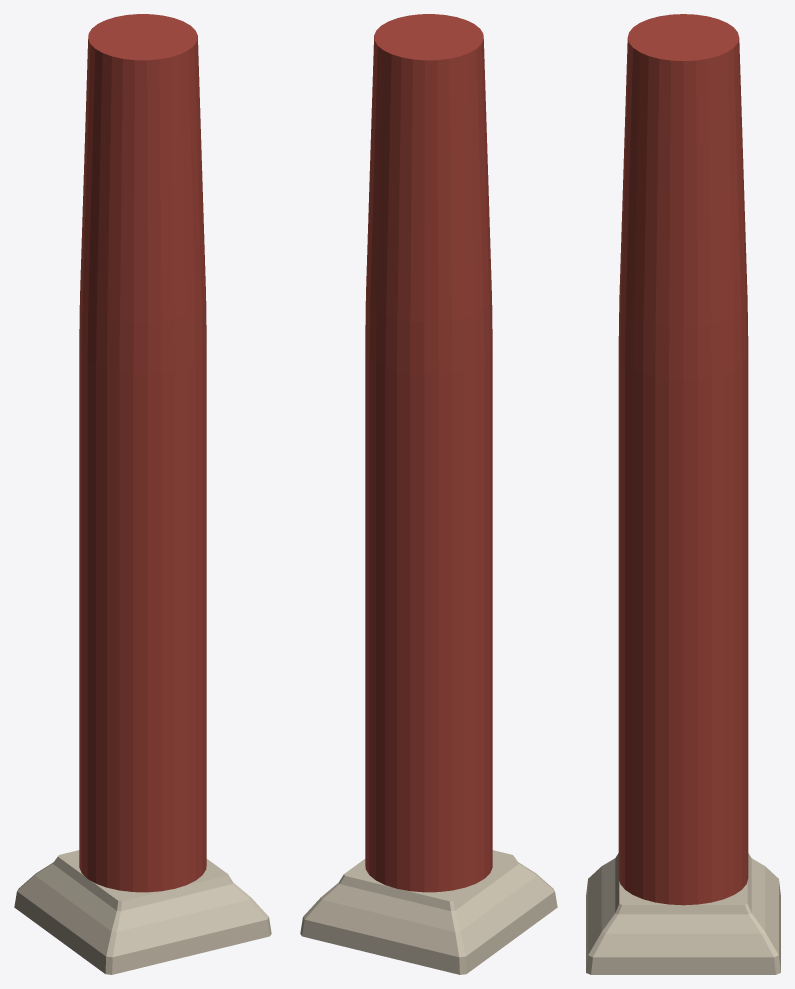
The model's file is column-shijing.glb.
The picture shows the model from 3 angles, left to right: view 1: azimuth 30°, elevation 25°; view 2: azimuth 150°, elevation 25°; view 3: azimuth 270°, elevation 25°; orthographic projection.
Parts seen in each view (by area): view 1: column_shijing; view 2: column_shijing; view 3: column_shijing.
Part boxes in pixels (<box>): column_shijing: <box>14,14,271,974</box>; column_shijing: <box>300,14,557,974</box>; column_shijing: <box>586,14,780,974</box>.
Bounding box in the file's own units: 0.924 × 4.69 × 0.924.
